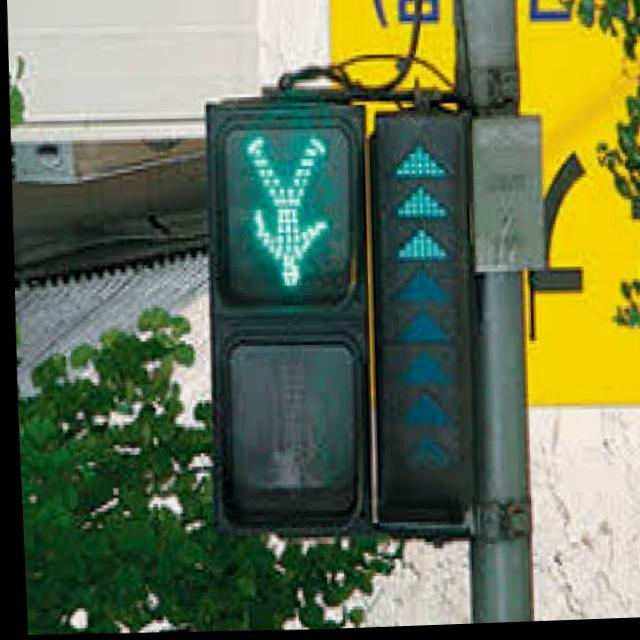green_light: (225, 120, 339, 299)
